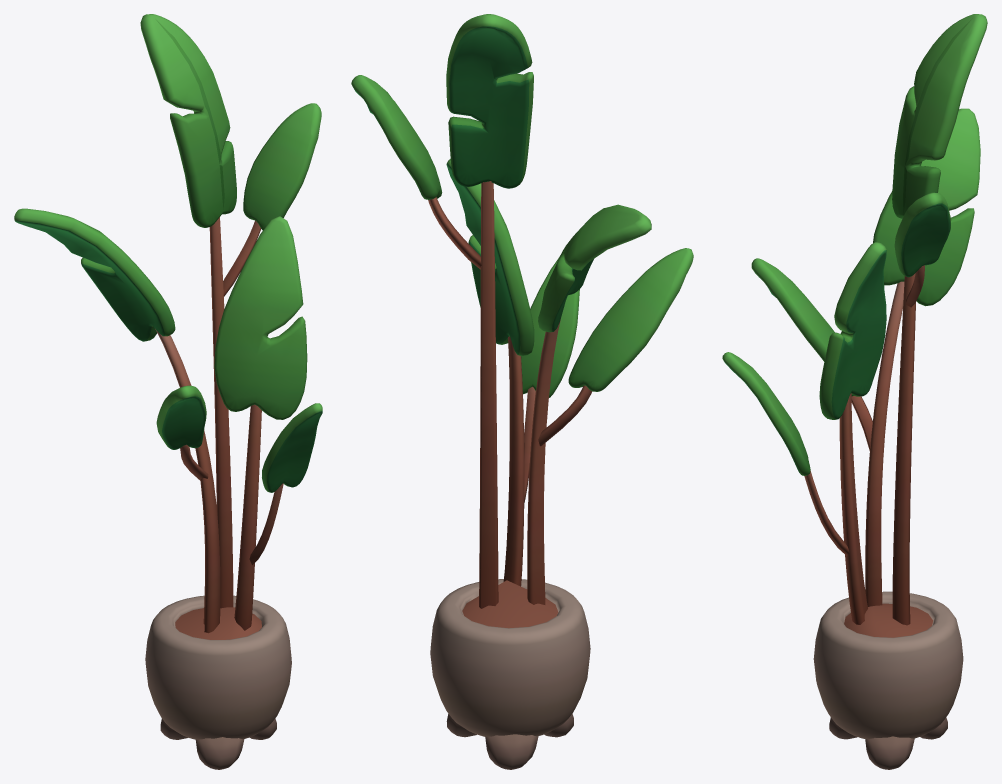
Rendered from Plants_19.glb.
The picture shows the model from 3 angles, left to right: view 1: azimuth 30°, elevation 25°; view 2: azimuth 150°, elevation 25°; view 3: azimuth 270°, elevation 25°; orthographic projection. The views are drawn at different scales.
Parts seen in each view (by area): view 1: Plants_19; view 2: Plants_19; view 3: Plants_19.
Part boxes in pixels (left/top/right/bottom): Plants_19: left=14, top=14, right=322, bottom=769; Plants_19: left=351, top=14, right=693, bottom=769; Plants_19: left=722, top=14, right=987, bottom=769.
Size of the model in its own units: 1.23 by 2.88 by 0.9609.
Materials: 1 (1 with a texture image).
